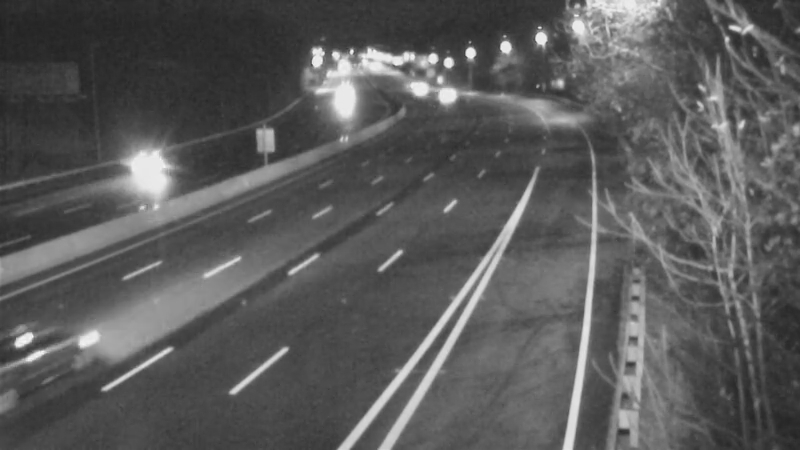vehicle: (1, 313, 107, 423), (105, 127, 185, 207), (393, 65, 443, 115), (424, 71, 474, 121), (318, 79, 368, 129)
